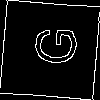G: (24, 24, 79, 67)
